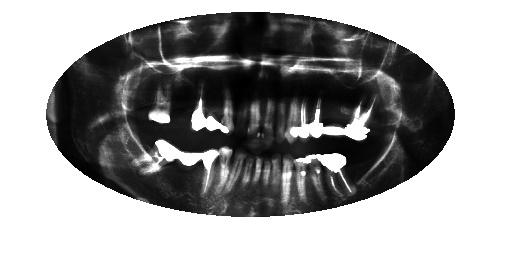i10decay: (242, 154, 254, 191)
i11decay: (230, 150, 246, 194)
i12healthy: (219, 145, 232, 196)
i13healthy: (201, 147, 219, 198)
i14loss: (181, 146, 202, 194)
i15healthy: (131, 138, 181, 187)
i16loss: (127, 124, 151, 157)
i1loss: (364, 142, 386, 167)
i2loss: (348, 150, 369, 184)
i3healthy: (318, 152, 355, 198)
i4decay: (305, 155, 326, 201)
i5healthy: (293, 154, 308, 204)
i6healthy: (280, 153, 293, 208)
i7decay: (271, 156, 282, 197)
i8decay: (263, 156, 272, 195)
i9decay: (253, 155, 263, 198)
u10loss: (236, 77, 249, 138)
u11decay: (221, 80, 236, 135)
u12loss: (208, 81, 220, 133)
u13healthy: (190, 75, 209, 130)
u14loss: (173, 81, 192, 127)
u15healthy: (149, 79, 175, 124)
u16loss: (136, 82, 151, 119)
u1loss: (371, 107, 391, 142)
u2healthy: (345, 95, 380, 147)
u3loss: (325, 99, 345, 138)
u4healthy: (310, 97, 325, 140)
u5healthy: (300, 91, 311, 142)
u6healthy: (285, 95, 300, 146)
u7decay: (275, 90, 288, 147)
u8decay: (263, 88, 276, 150)
u9decay: (248, 83, 262, 143)
